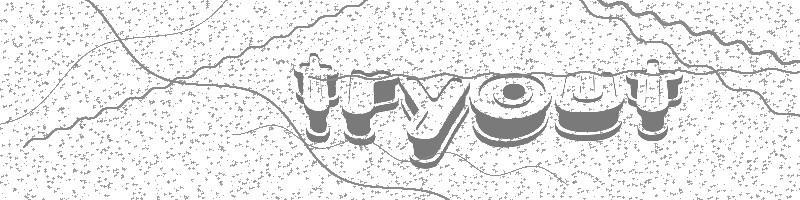o: (470, 73, 553, 149)
r: (341, 69, 399, 144)
t: (627, 59, 683, 139), (294, 54, 340, 142)
u: (555, 72, 625, 140)
y: (399, 77, 470, 168)
